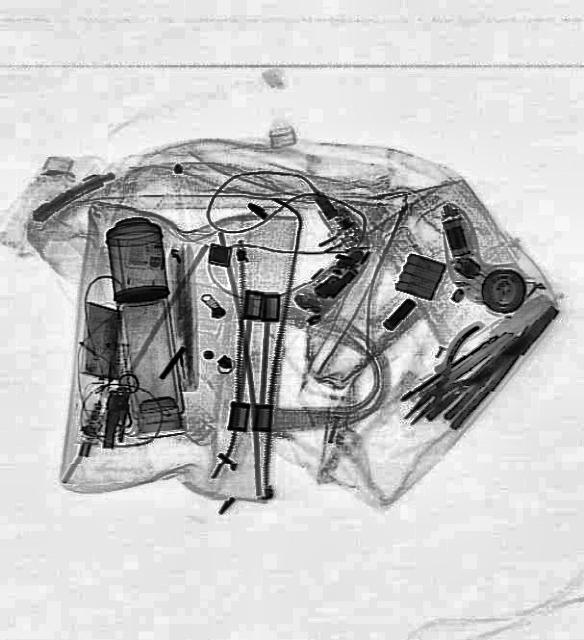Pliers: (388, 316, 512, 439)
